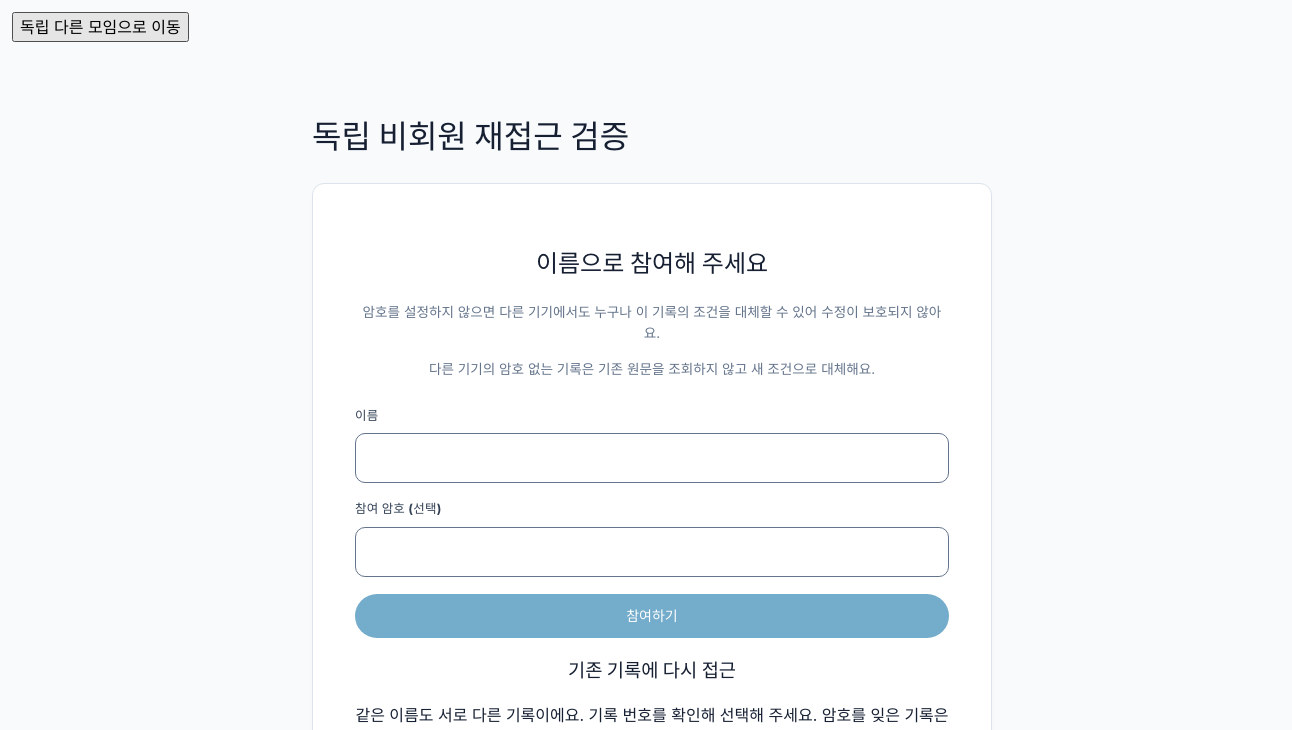
#108 RoomPage joins through the selected identity › joins a guest with a name and optional password  keep password spaces
Type "  민수  " into the field labelled "이름". click: (652, 458)
box: [355,433,949,483]
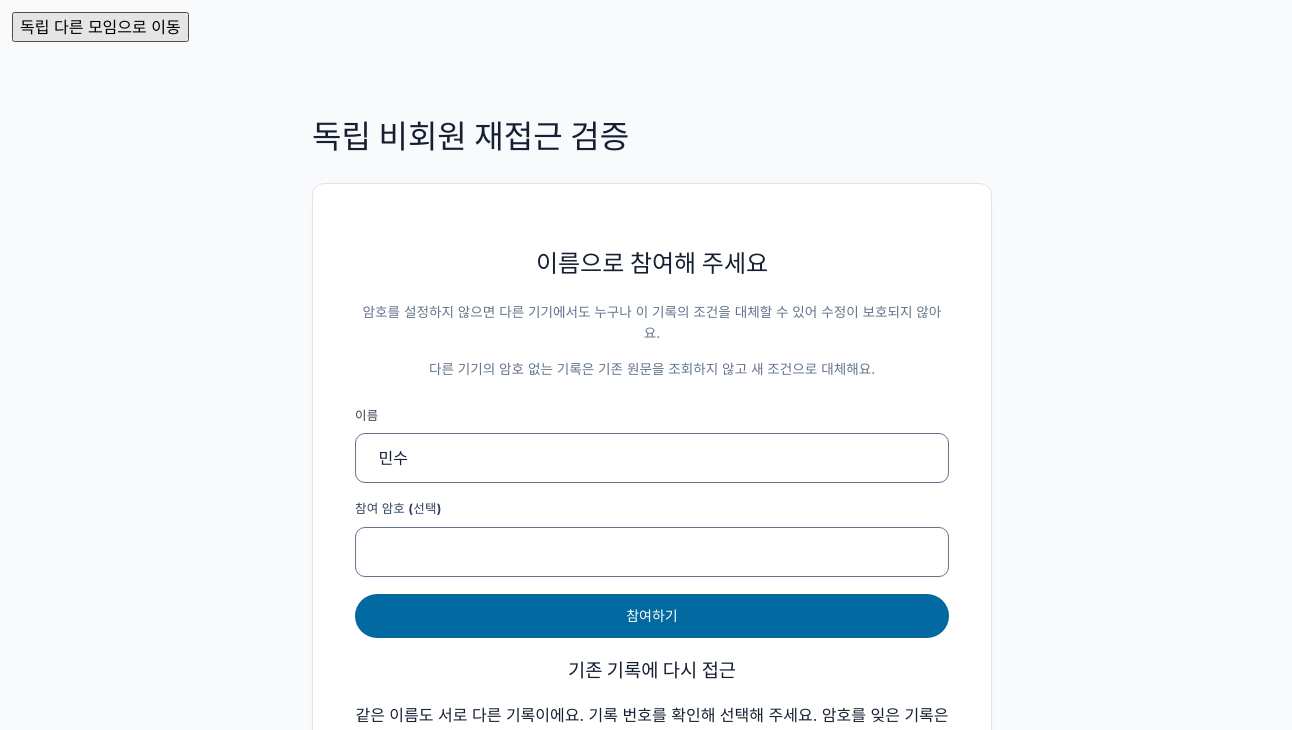
Type " keep password spaces " into the password field labelled "참여 암호 (선택)". click: (652, 552)
box: [355,527,949,577]
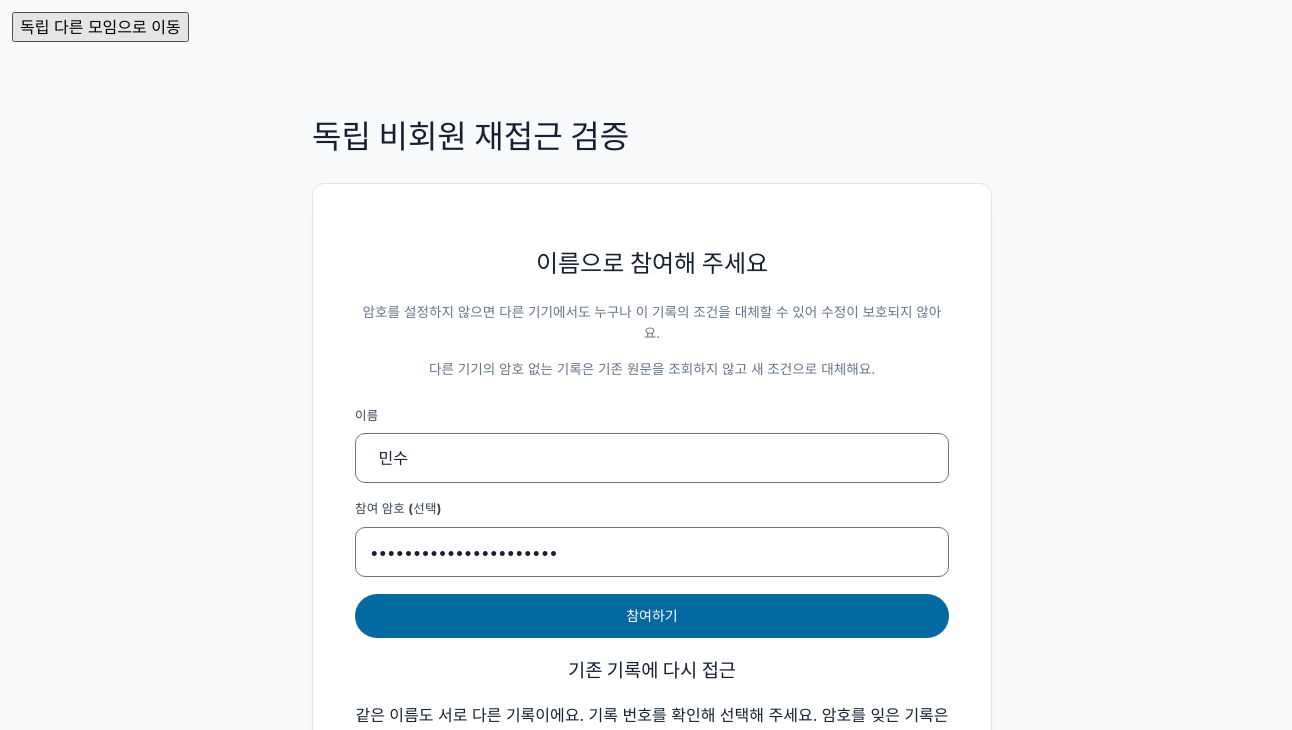
Click the button "참여하기". click: (652, 616)
box: [355,594,949,638]
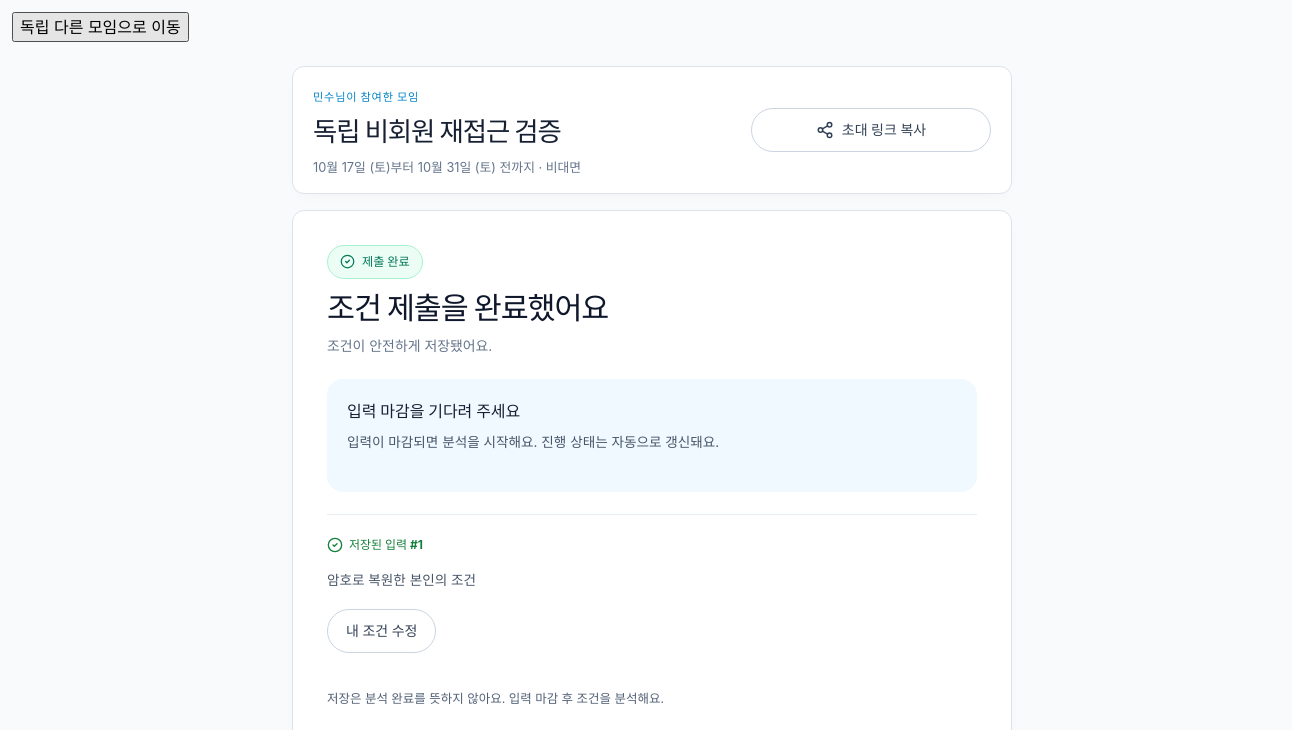
Check: the text "민수님이 참여한 모임" is shown, box [313,90,419,104]
